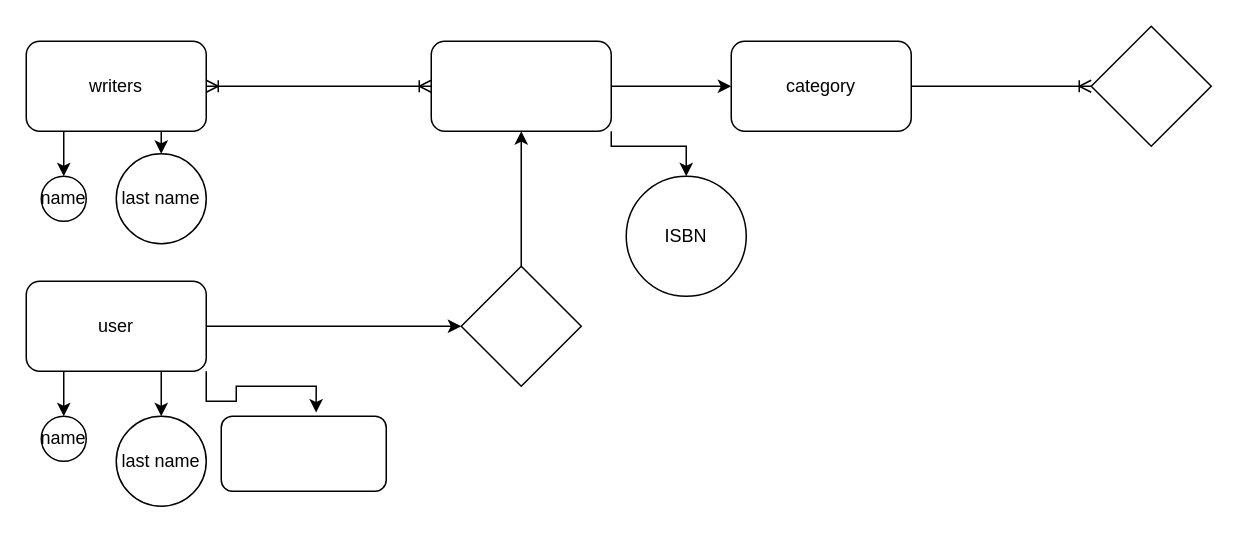
This 1238x533 diagram has some shape labels left out. The centre of each missing label's shape, as x and y in pixels:
books: the point at 520,85
password: the point at 303,453
rented: the point at 520,325
sub-category: the point at 1150,85
